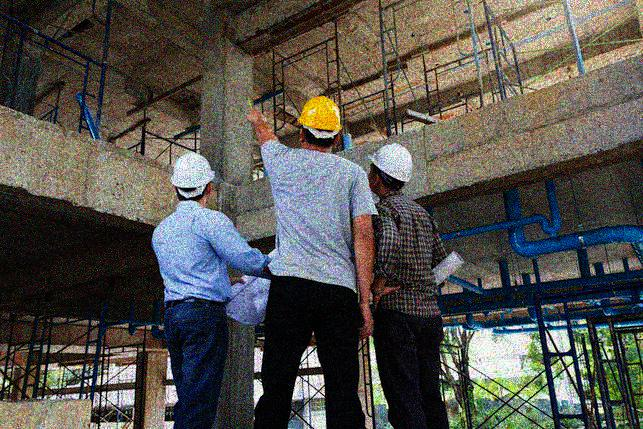helmet: (294, 95, 344, 153), (168, 152, 218, 207), (364, 143, 414, 197)
